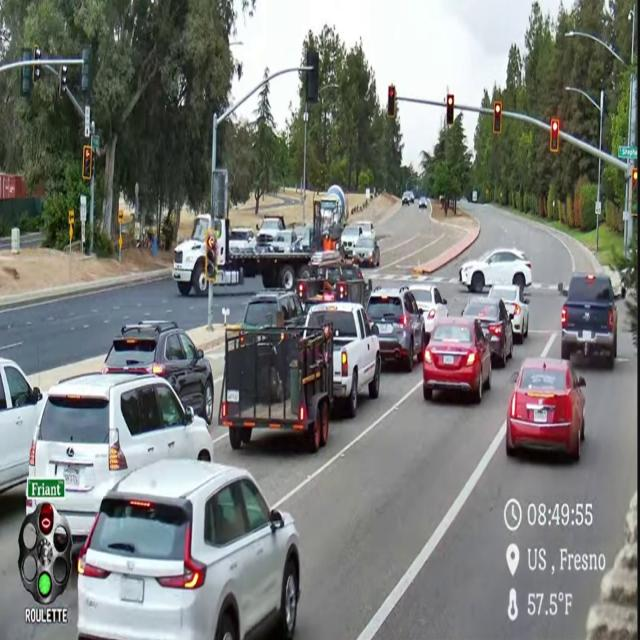car: (78, 460, 300, 639), (29, 373, 213, 547), (102, 320, 214, 423), (506, 358, 585, 460), (0, 358, 43, 493), (423, 318, 491, 403), (366, 287, 424, 371), (462, 298, 513, 367), (459, 248, 531, 293), (488, 285, 529, 343), (242, 290, 305, 327), (410, 285, 448, 343), (353, 235, 380, 267), (340, 224, 363, 256), (229, 228, 255, 252), (271, 230, 296, 253), (356, 221, 375, 239), (402, 192, 412, 205), (418, 197, 427, 208), (409, 191, 414, 204)
traffic signal: (306, 50, 320, 103), (204, 229, 217, 283), (82, 145, 94, 181), (81, 47, 90, 93), (20, 65, 32, 97), (550, 119, 559, 153), (387, 85, 396, 119), (493, 101, 502, 135), (59, 65, 67, 98), (446, 95, 454, 126), (32, 64, 41, 82), (632, 168, 637, 188)
truck: (218, 326, 333, 453), (211, 190, 345, 290), (305, 303, 381, 417), (559, 273, 621, 368), (297, 251, 372, 309), (314, 184, 347, 250), (256, 216, 285, 247)
